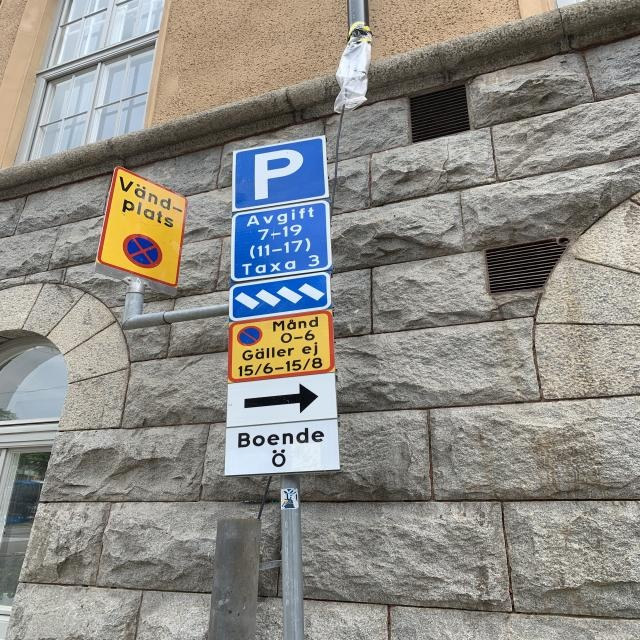P-skylt: (228, 133, 329, 214)
